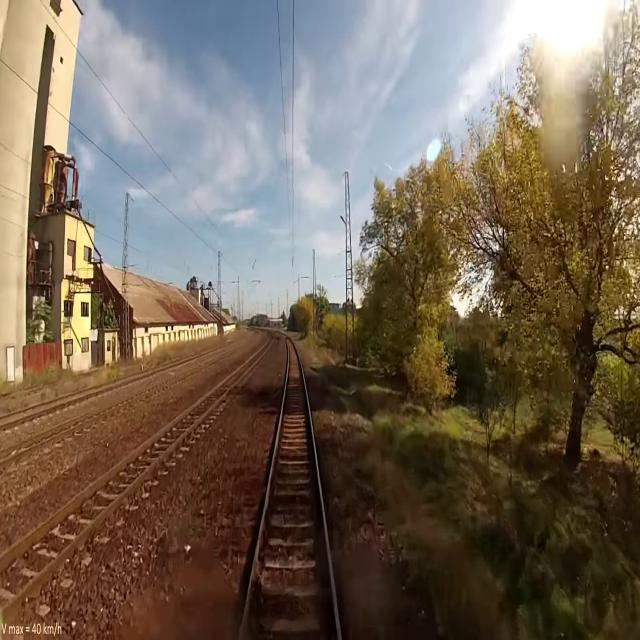rail-track: (0, 335, 271, 606), (241, 339, 336, 639), (0, 428, 60, 457)
